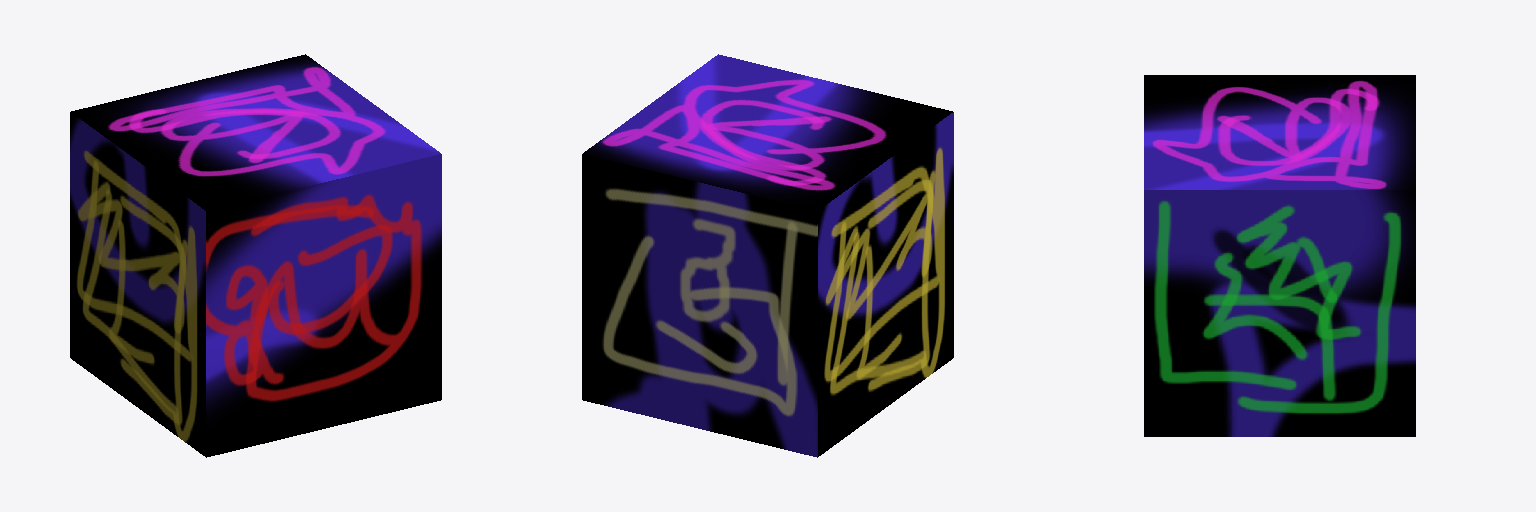
The picture shows the model from 3 angles: view 1: azimuth 30°, elevation 25°; view 2: azimuth 150°, elevation 25°; view 3: azimuth 270°, elevation 25°; orthographic projection.
Visible parts, largest first — view 1: Cube; view 2: Cube; view 3: Cube.
Part boxes in pixels (left/top/right/bottom): Cube: left=70, top=54, right=441, bottom=457; Cube: left=582, top=54, right=953, bottom=457; Cube: left=1144, top=75, right=1415, bottom=436.
Size of the model in its own units: 2 by 2 by 2.
1 materials, 1 textured.